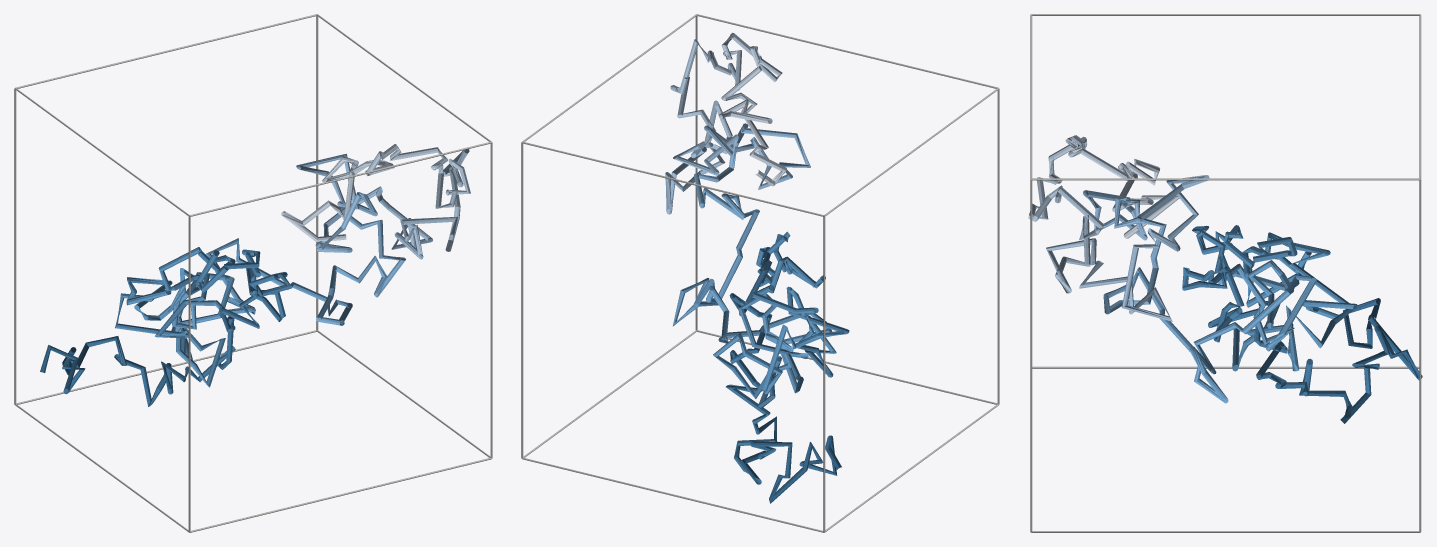
3 views of the same model, side by side, from view 1: azimuth 30°, elevation 25°; view 2: azimuth 150°, elevation 25°; view 3: azimuth 270°, elevation 25° (orthographic). The views are drawn at different scales.
Parts seen in each view (by area): view 1: geometry_0, geometry_1; view 2: geometry_0, geometry_1; view 3: geometry_0, geometry_1.
Boxes of the visible parts, x1,y1,x2,y2 form: geometry_0: [40, 144, 470, 406]; geometry_1: [14, 14, 492, 532]; geometry_0: [665, 32, 849, 503]; geometry_1: [521, 14, 999, 532]; geometry_0: [1028, 135, 1422, 423]; geometry_1: [1030, 14, 1421, 532].
Bounding box in the file's own units: 0.3016 × 0.3041 × 0.3041.
